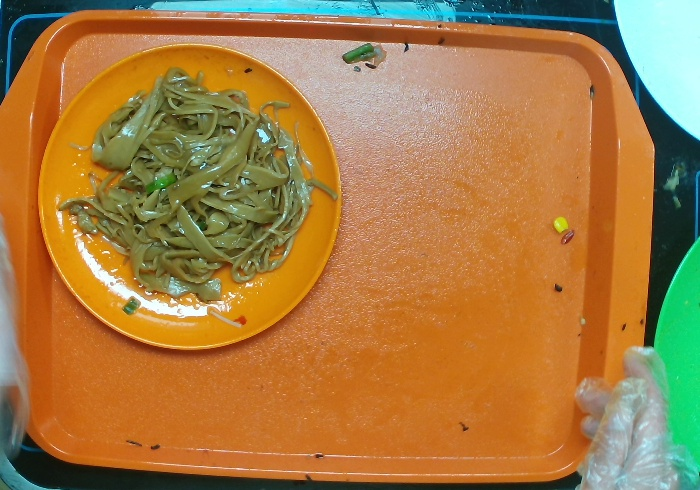HZYJPL-Ju_Huang_Yuan_Pan: (35, 41, 342, 352)
